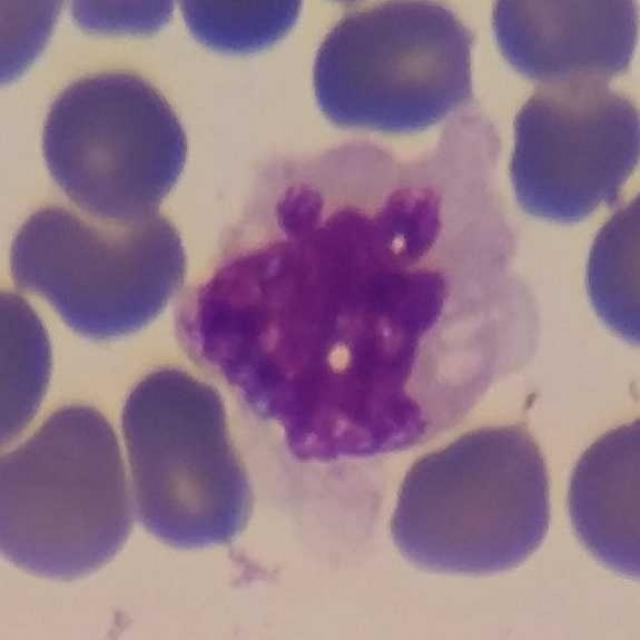Monocyte: (186, 94, 544, 462)
RBC: (1, 185, 196, 346), (380, 415, 563, 586), (113, 358, 264, 560), (31, 59, 199, 223), (0, 395, 141, 587), (308, 0, 492, 139), (496, 67, 640, 231), (555, 398, 639, 594), (479, 0, 640, 92), (0, 279, 61, 461), (163, 0, 315, 69), (578, 192, 640, 350), (0, 0, 77, 101), (57, 0, 189, 48)
